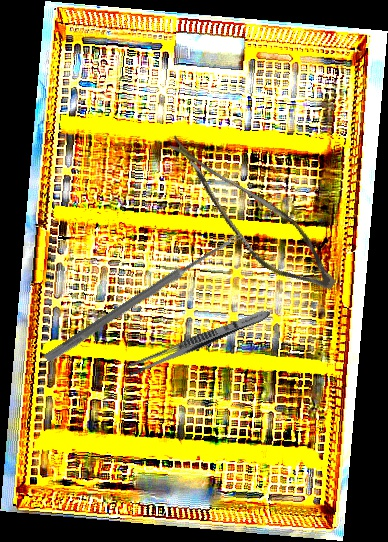Dressing Forceps: (124, 305, 273, 379)
Micro Scissor: (137, 132, 358, 303)
Surgical Spoon: (43, 228, 245, 365)
